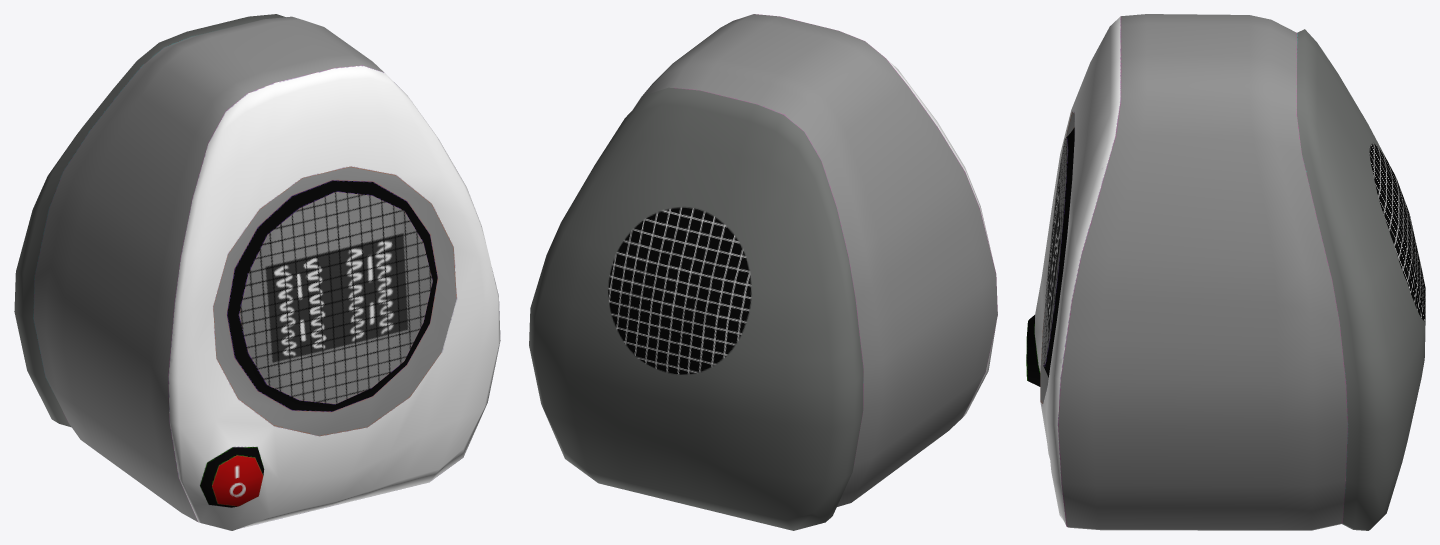
File: FUCKOFFHEATER.fbx
3 views of the same model, side by side, from view 1: azimuth 30°, elevation 25°; view 2: azimuth 150°, elevation 25°; view 3: azimuth 270°, elevation 25° (orthographic). The views are drawn at different scales.
Parts seen in each view (by area): view 1: SpaceheaterFinal; view 2: SpaceheaterFinal; view 3: SpaceheaterFinal.
Boxes of the visible parts, x1,y1,x2,y2 form: SpaceheaterFinal: (14, 14, 500, 530); SpaceheaterFinal: (529, 14, 997, 530); SpaceheaterFinal: (1026, 14, 1425, 530).
Bounding box in the file's own units: 9.36 × 11.06 × 9.1.
Materials: 1 (1 with a texture image).
